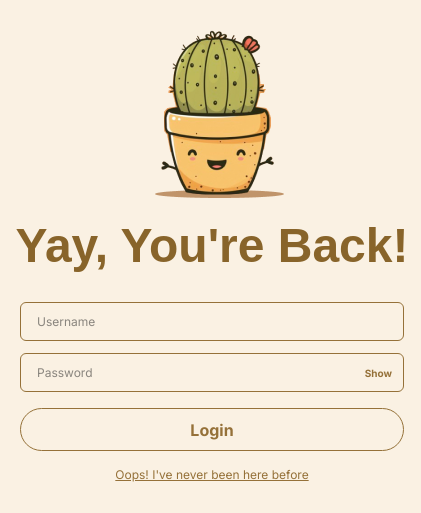
LoginPage › shows invalid credentials error on 401
In the field with placeholder "Username": (212, 322) [20,302,404,341], type "testuser"
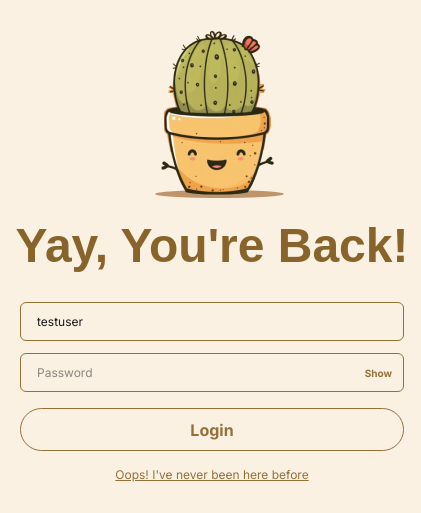
In the password field with placeholder "Password": (212, 372) [20,353,404,392], type "wrongpass"
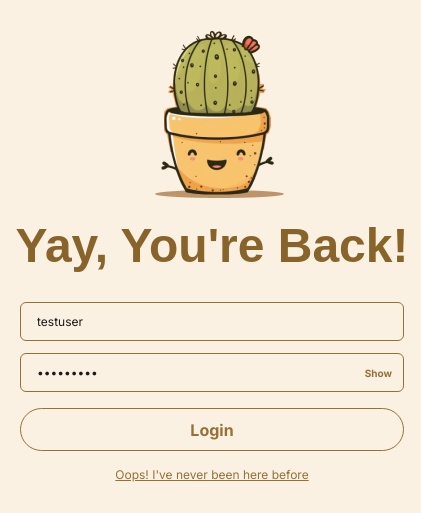
Click the button "Login": (212, 430) [20,408,404,451]
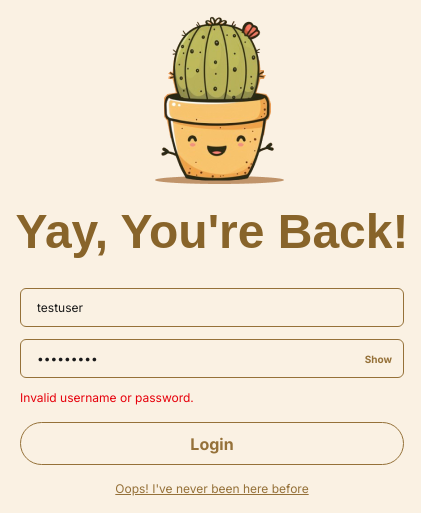
Now the text "Invalid username or password." is shown, box [20,390,194,405]
